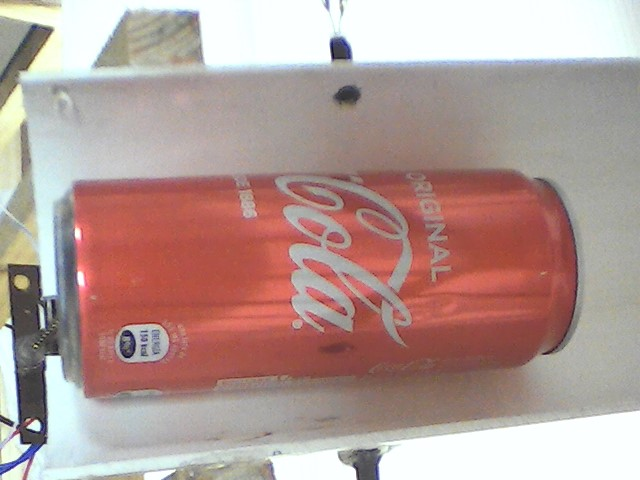lata: (50, 161, 595, 406)
